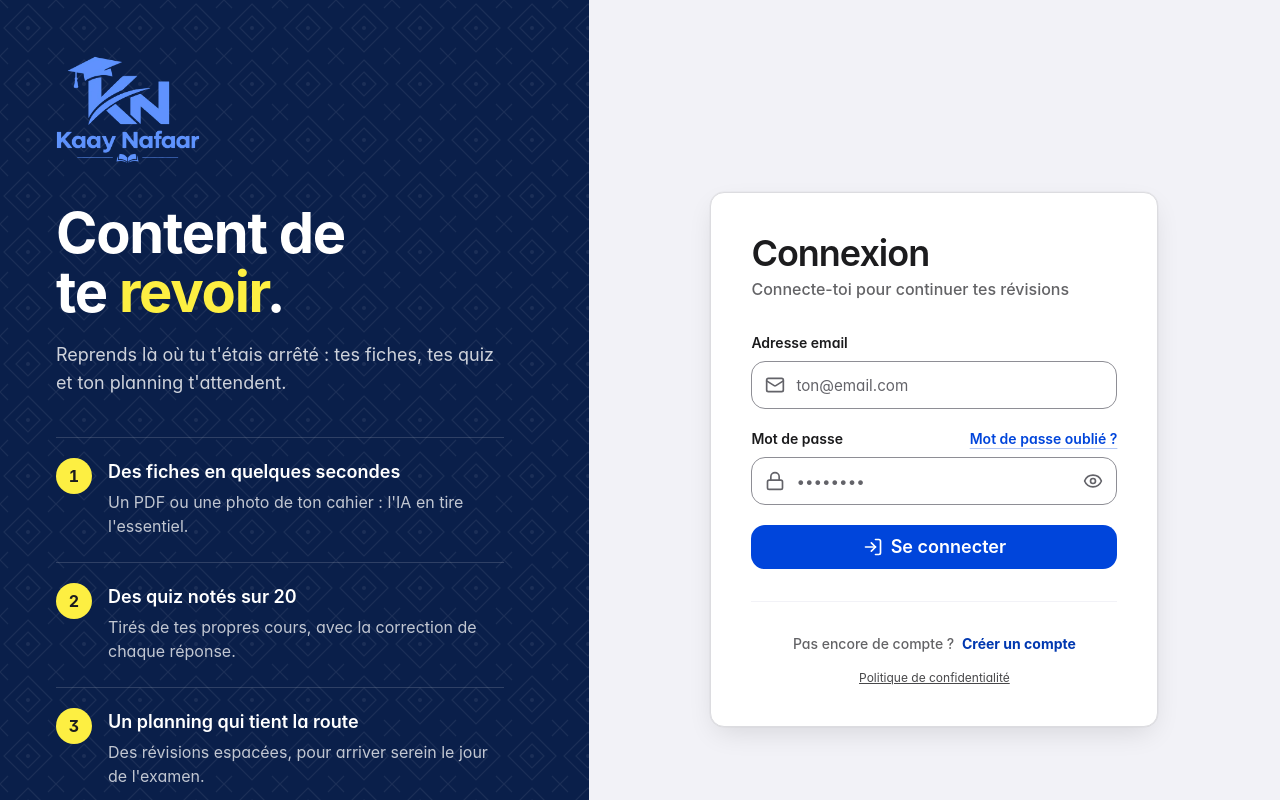
Test: Page Connexion › affiche l'écran de confirmation si l'email n'est pas vérifié
Type "awa@esp.sn" into the field labelled "Adresse email" at (934, 385), box top-left (751, 361), bottom-right (1117, 409)
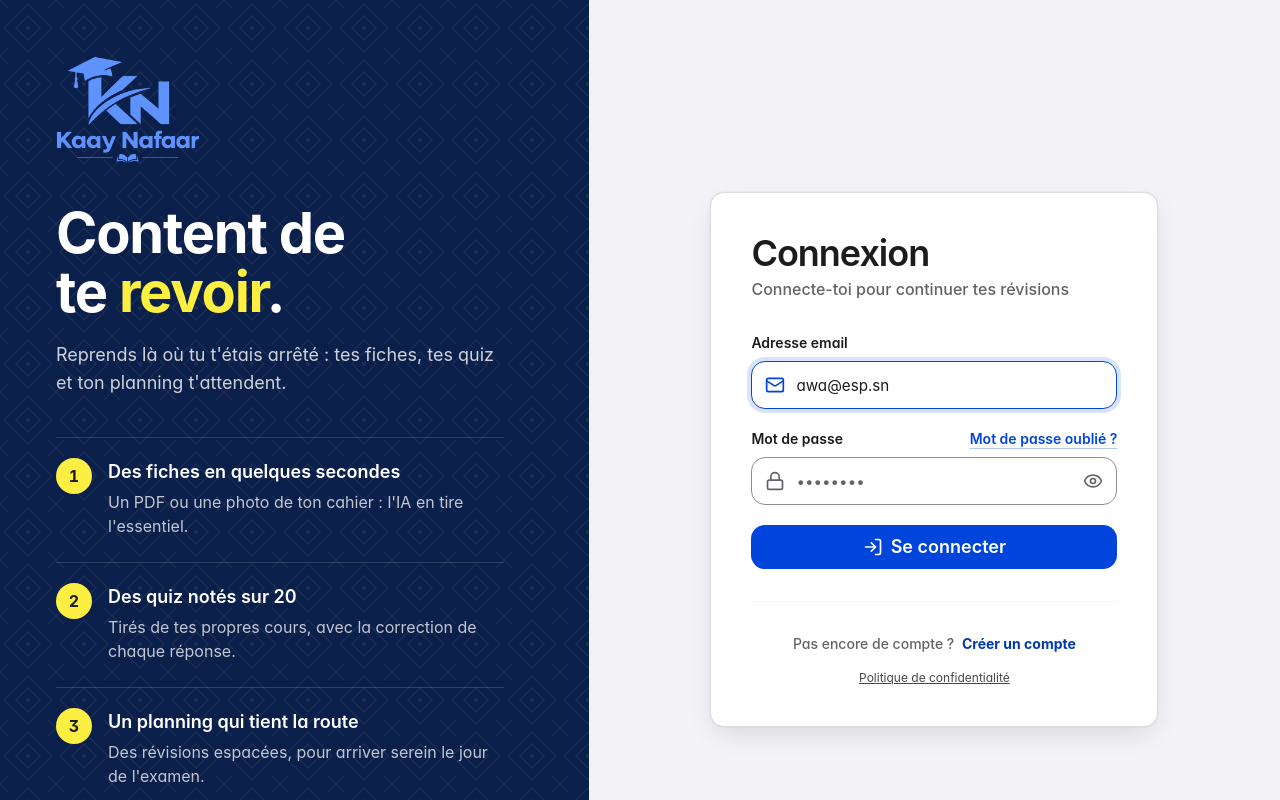
Type "motdepasse1" into the password field labelled "Mot de passe" at (934, 481), box top-left (751, 457), bottom-right (1117, 505)
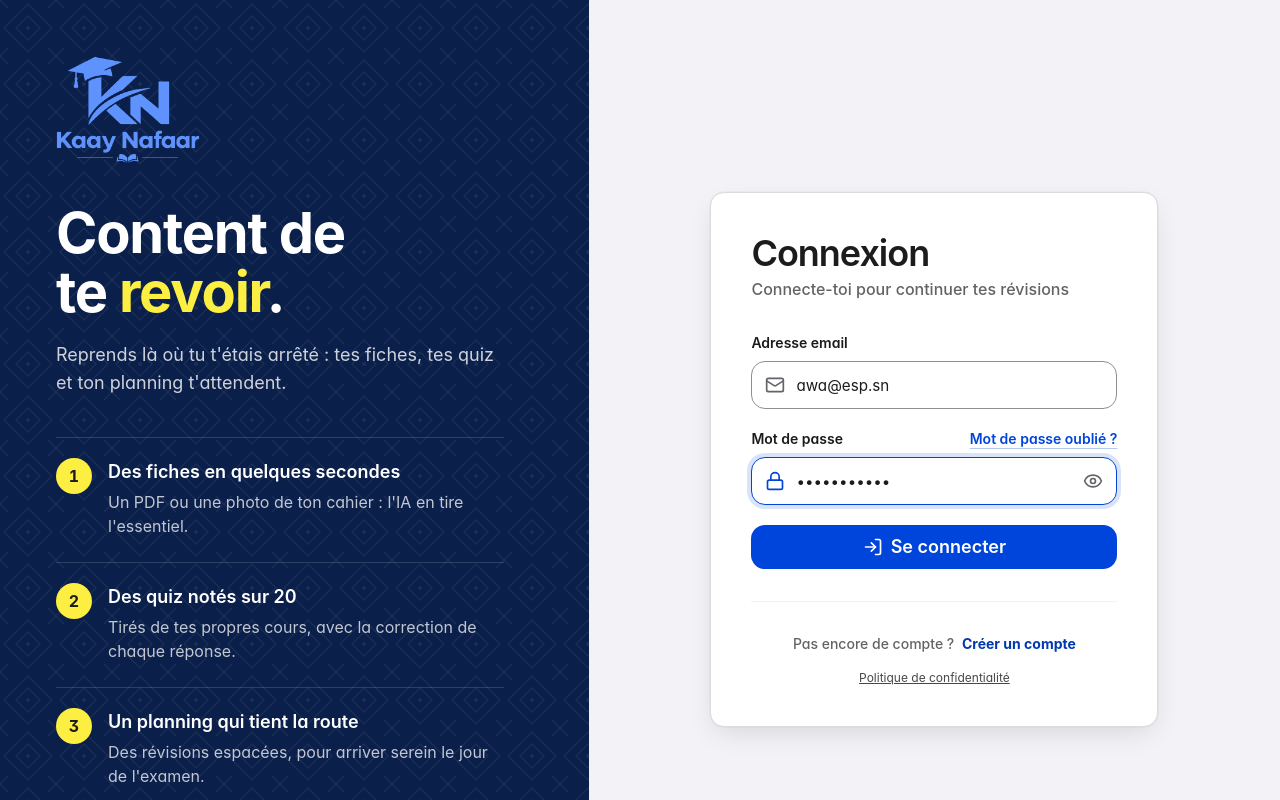
Click the button "Se connecter" at (934, 547), box top-left (751, 525), bottom-right (1117, 569)
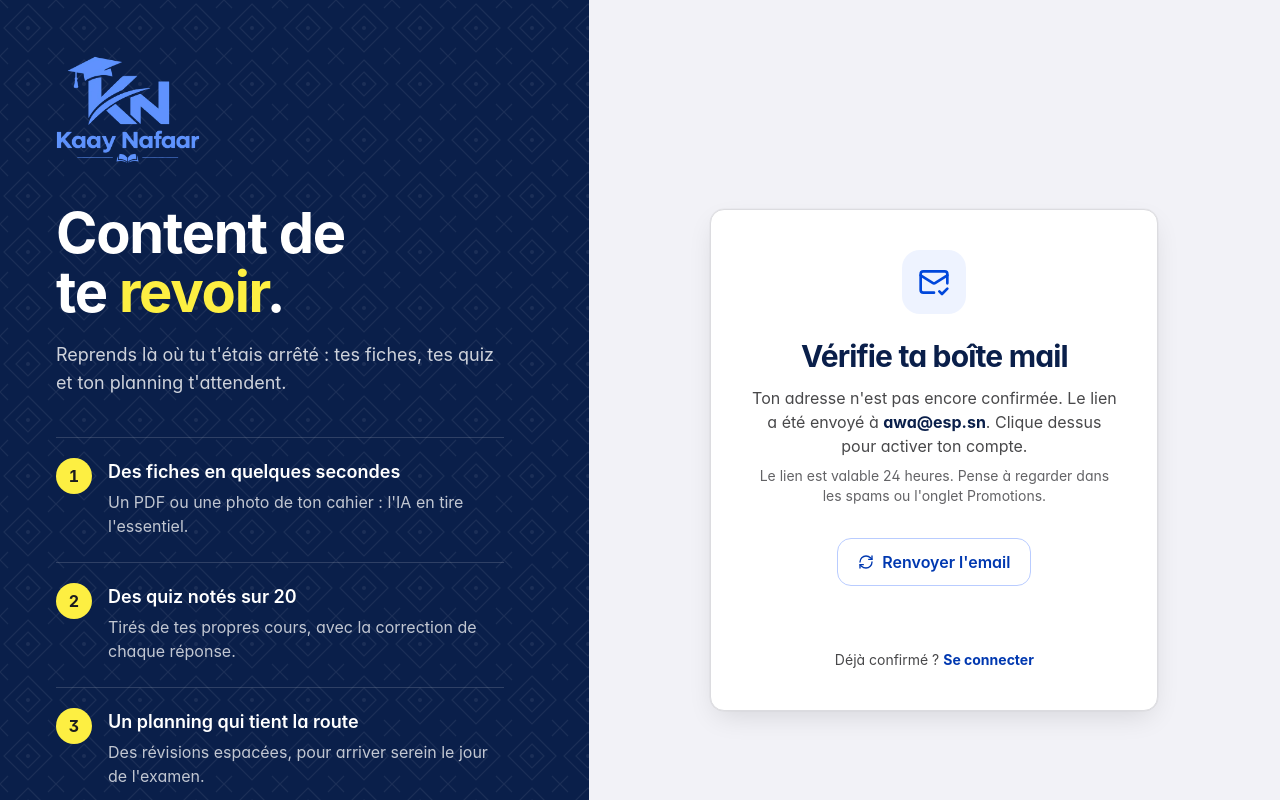
Now the text "awa@esp.sn" is shown, box top-left (883, 412), bottom-right (986, 432)
